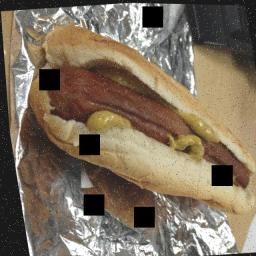hotdog: (16, 8, 256, 230)
